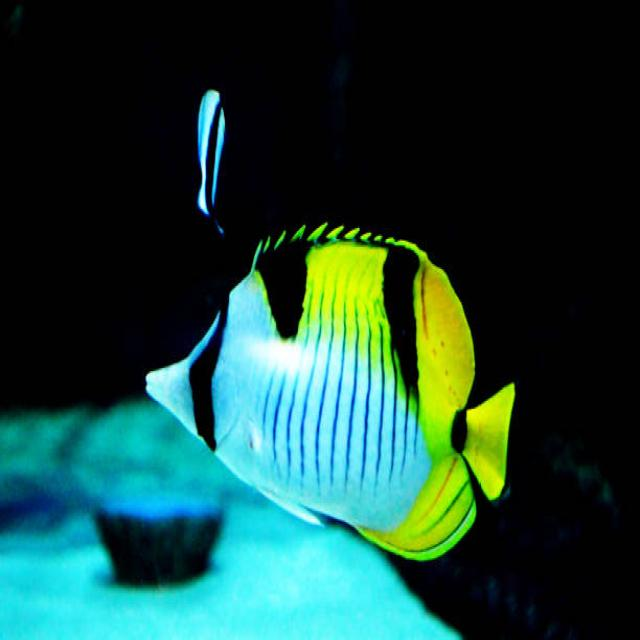ButterflyFish: (146, 223, 514, 566)
